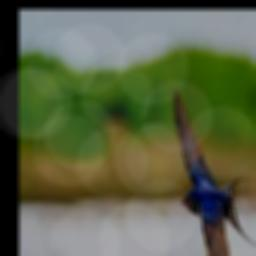Swallow: (175, 86, 256, 256)
